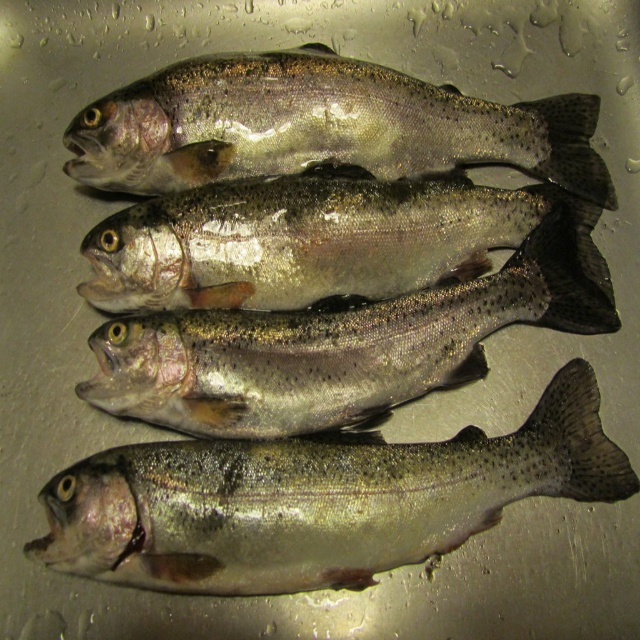Fish: (22, 42, 640, 597)
